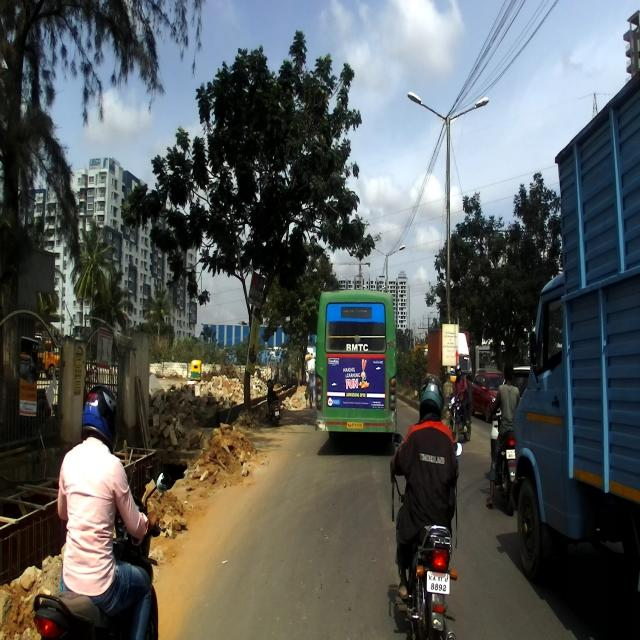motorcycle: (31, 466, 177, 640), (388, 432, 464, 640), (485, 394, 520, 516)
truck: (512, 69, 639, 588)
